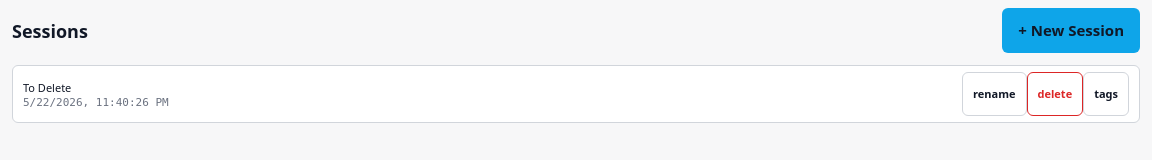
Sessions › deletes session when delete button clicked
The width and height of the screenshot is (1152, 160).
Check: the text "To Delete" is shown, box left=23, top=80, right=71, bottom=94
Click the button "delete".
click(1055, 94)  # box left=1026, top=72, right=1083, bottom=116
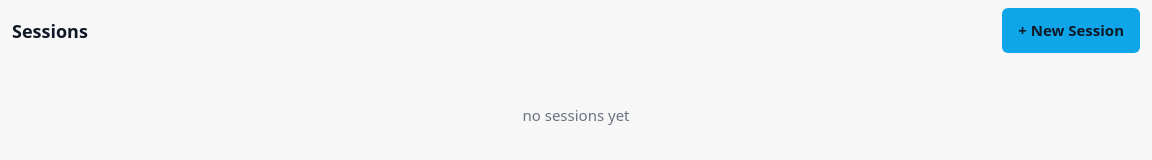
Check: the text "no sessions yet" is shown, box left=522, top=105, right=630, bottom=125
